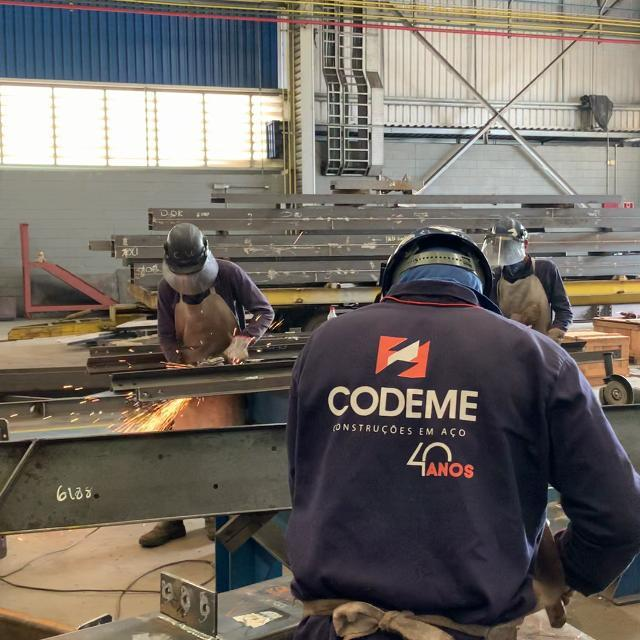face-shield: (160, 248, 219, 296), (482, 235, 528, 269)
glove: (220, 338, 251, 365), (547, 328, 567, 343)
helmet: (382, 225, 496, 290), (164, 222, 210, 279), (488, 215, 527, 241)
person: (288, 225, 638, 615), (157, 222, 277, 370), (481, 215, 570, 344)
